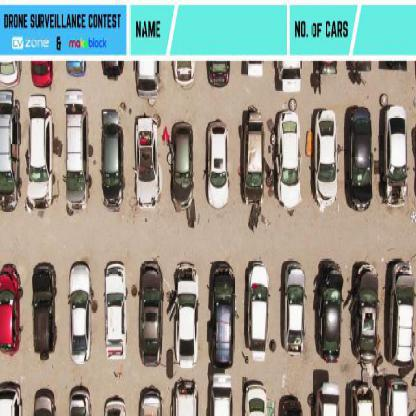car: (345, 260, 378, 372), (25, 96, 53, 216), (345, 105, 373, 210), (208, 263, 235, 368), (316, 263, 344, 363), (66, 100, 90, 213), (391, 263, 415, 374), (174, 262, 199, 368), (139, 260, 163, 370), (100, 106, 124, 212), (32, 263, 58, 356), (170, 122, 197, 211), (386, 106, 409, 208), (283, 262, 308, 355), (0, 90, 19, 212), (69, 263, 93, 359), (135, 115, 159, 210), (278, 112, 300, 214), (206, 120, 230, 211), (104, 263, 126, 361), (243, 108, 265, 202), (0, 264, 23, 353), (248, 263, 270, 354), (316, 112, 336, 207), (209, 375, 235, 415), (172, 380, 201, 415), (134, 61, 160, 98), (275, 60, 303, 93), (0, 381, 25, 415), (386, 380, 409, 415), (171, 61, 197, 90), (139, 387, 165, 415), (245, 385, 269, 415), (70, 385, 94, 415), (319, 384, 342, 415), (353, 385, 375, 415), (33, 388, 57, 415), (207, 62, 229, 89), (0, 62, 21, 86), (33, 63, 53, 87), (68, 62, 87, 78)
